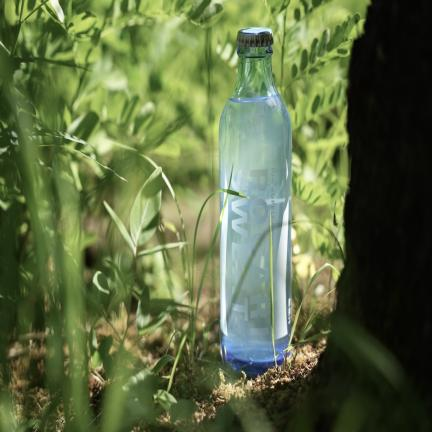container: (219, 27, 291, 368)
fluid: (219, 93, 291, 370)
fluid-surface: (228, 92, 283, 103)
